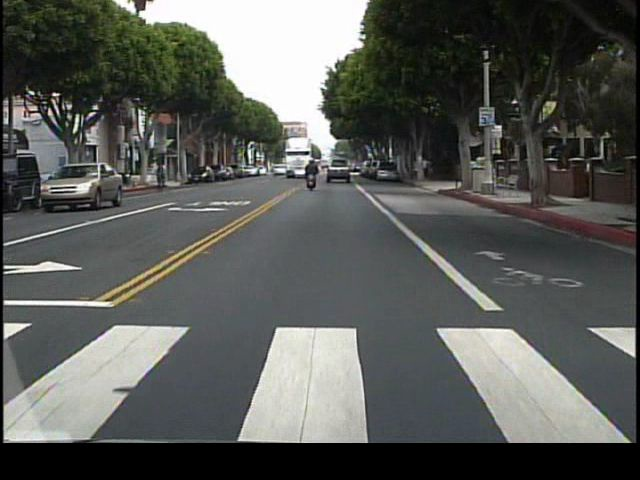person: (304, 156, 323, 198), (154, 160, 172, 190), (427, 156, 435, 185), (423, 157, 428, 180)
